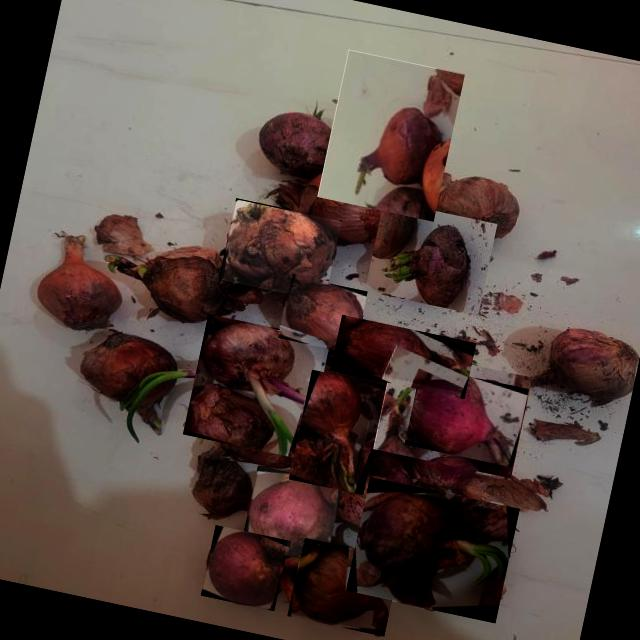healthy: (410, 371, 510, 465), (294, 547, 388, 631), (336, 321, 469, 375), (300, 371, 359, 492), (248, 475, 333, 555), (208, 533, 276, 605), (286, 284, 362, 347)
rotten: (226, 203, 335, 289)
sprouting: (356, 492, 508, 607), (202, 322, 301, 455)
